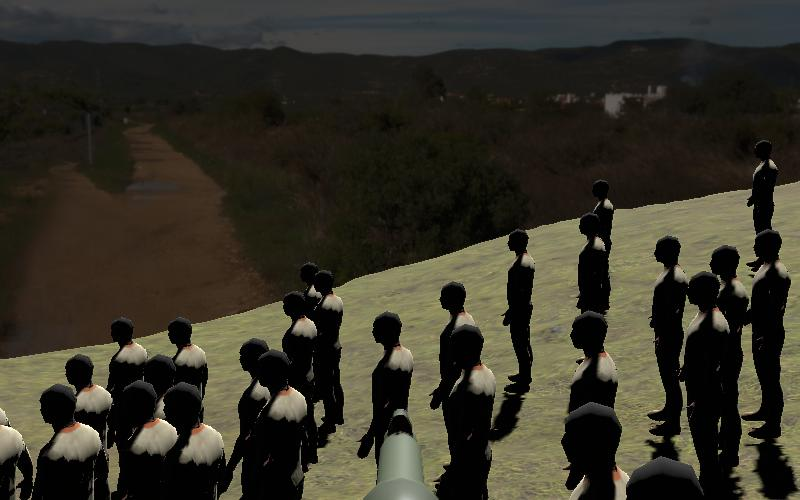Human: (224, 328, 319, 500), (275, 252, 350, 441), (743, 222, 798, 439), (20, 380, 112, 500), (356, 303, 418, 471), (110, 375, 185, 500), (165, 384, 230, 500), (745, 135, 787, 244)
